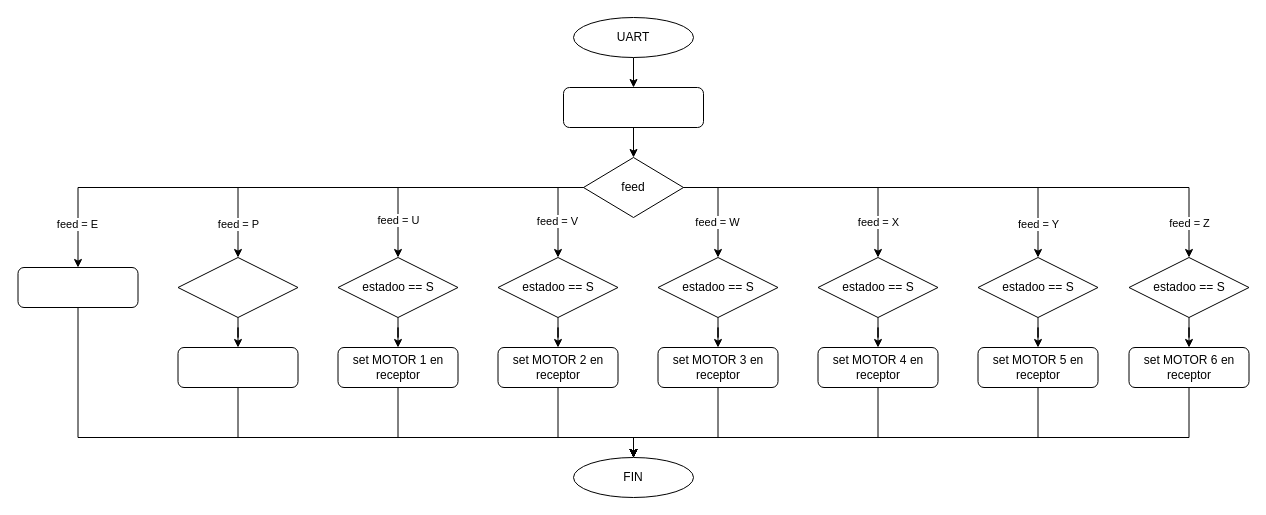
Some shapes in this 1266 by 515 pixel diagram are drawn without their labels. Here are the shapes that lost their labels. From the top down, the centre of each, then its label:
At point 633,107: "Recibe feed, receptor".
At point 77,287: "set_ESTADO en receptor".
At point 237,287: "estadoo == E".
At point 237,367: "Leer EEPROM en receptor".
